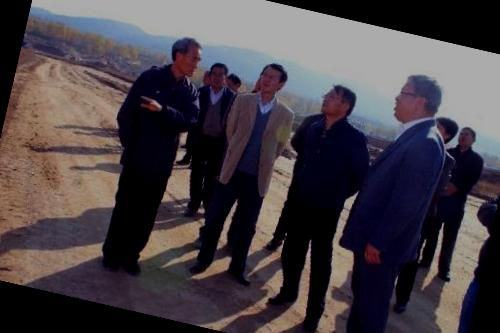no_helmet: (390, 64, 450, 132), (314, 76, 365, 126), (164, 29, 207, 82), (425, 108, 463, 152), (254, 59, 292, 101), (204, 56, 230, 91), (455, 122, 483, 154), (221, 70, 248, 102)
